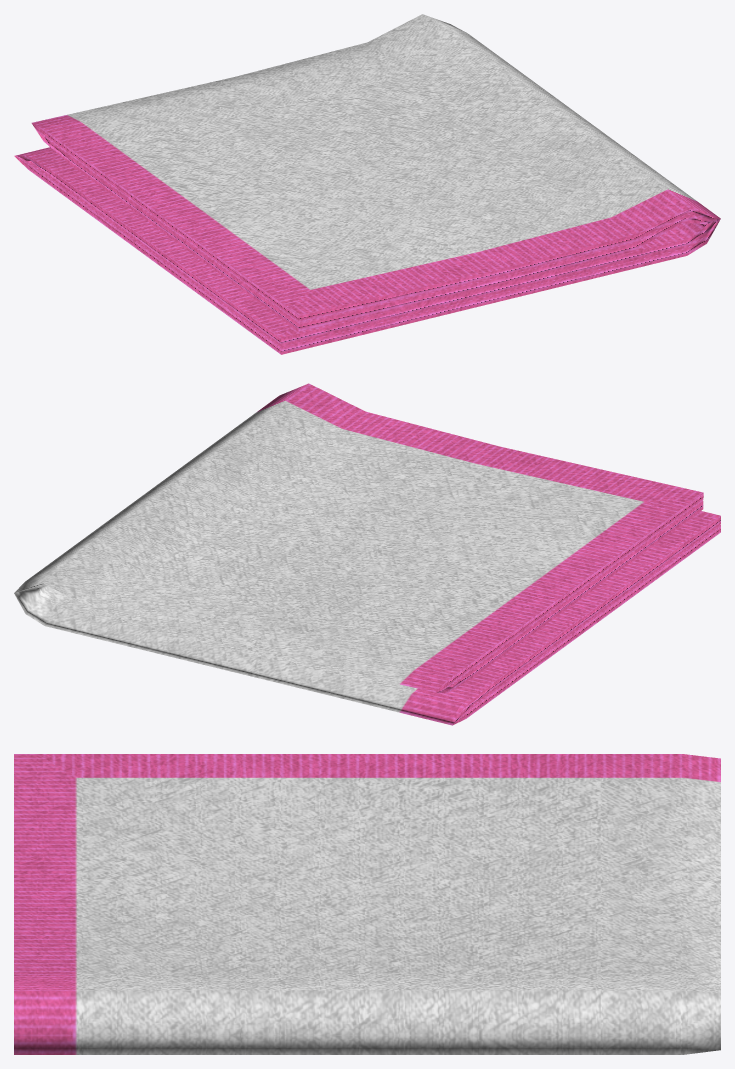
Rendered from taoru01.fbx.
3 renders of one model, top to bottom at view 1: azimuth 30°, elevation 25°; view 2: azimuth 150°, elevation 25°; view 3: azimuth 270°, elevation 25°, orthographic. The views are drawn at different scales.
Parts seen in each view (by area): view 1: pCube1; view 2: pCube1; view 3: pCube1.
Part boxes in pixels (x1,y1,x2,y2): pCube1: (14,14,720,354); pCube1: (14,383,720,725); pCube1: (14,754,720,1054).
Size of the model in its own units: 21.8 by 2.29 by 22.95.
Materials: 1 (1 with a texture image).
